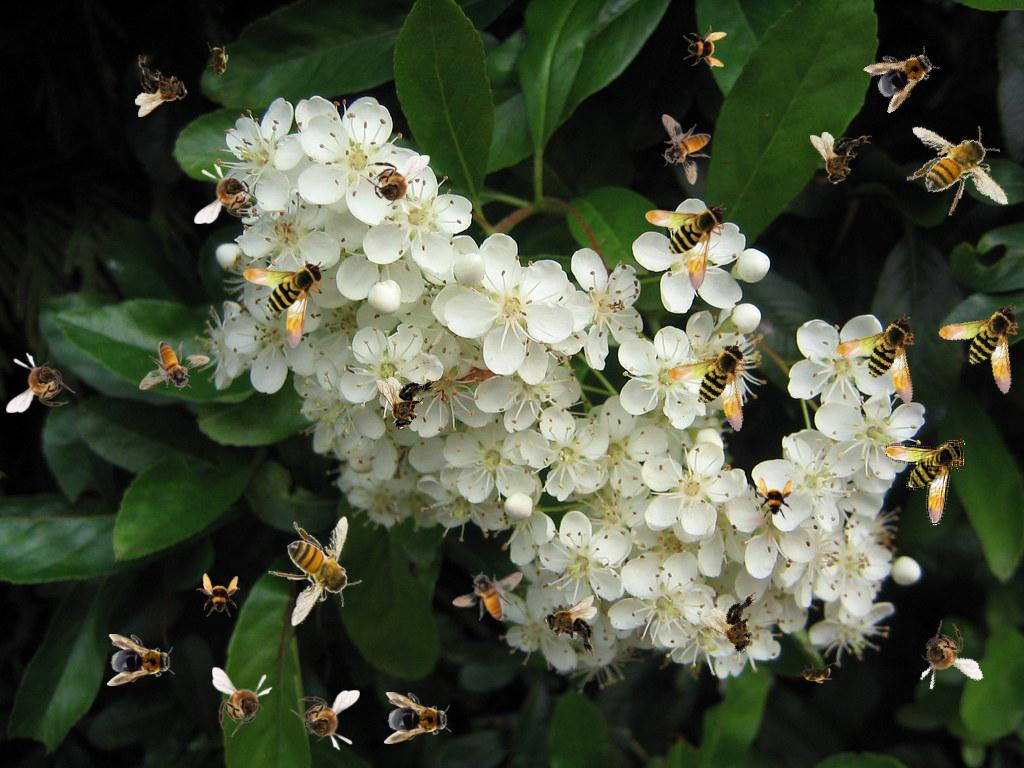Bee: (894, 111, 1024, 229), (831, 311, 939, 423), (663, 338, 769, 448), (268, 516, 362, 627), (935, 301, 1024, 407), (902, 612, 985, 700), (645, 203, 727, 291), (884, 438, 966, 526), (243, 261, 325, 349), (861, 33, 947, 115), (698, 588, 777, 664), (290, 690, 360, 751), (6, 352, 76, 413), (194, 163, 264, 224), (212, 667, 273, 737), (360, 155, 430, 216), (661, 114, 711, 185), (139, 341, 210, 391), (452, 571, 523, 621), (107, 634, 175, 686), (384, 692, 452, 744), (544, 595, 597, 657), (810, 132, 872, 185), (135, 55, 188, 117), (376, 377, 438, 430), (751, 476, 795, 520), (196, 573, 240, 617), (683, 25, 727, 69), (796, 662, 836, 684), (207, 42, 229, 82)
